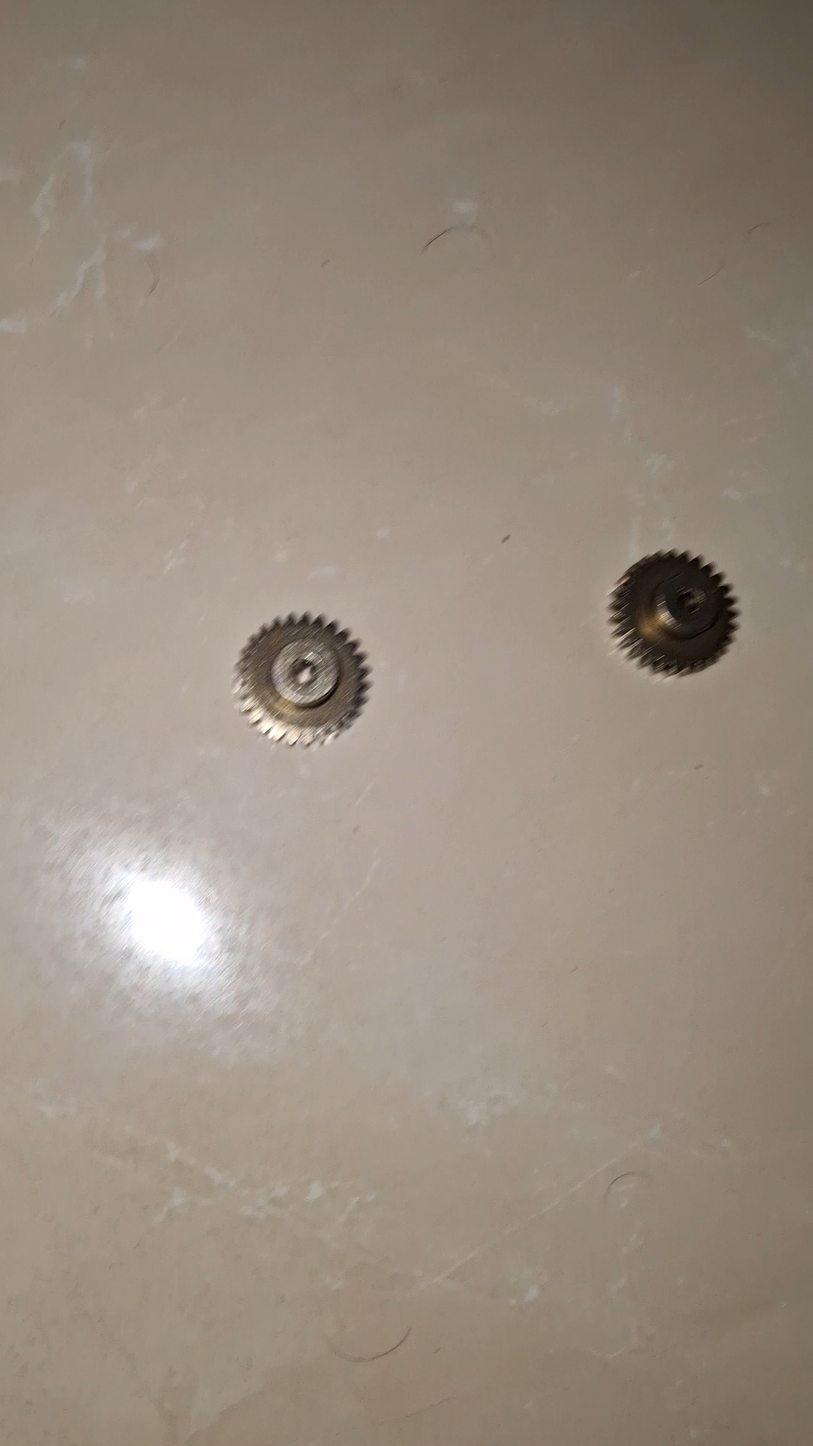spur gear: (234, 614, 368, 745), (609, 552, 737, 674)
